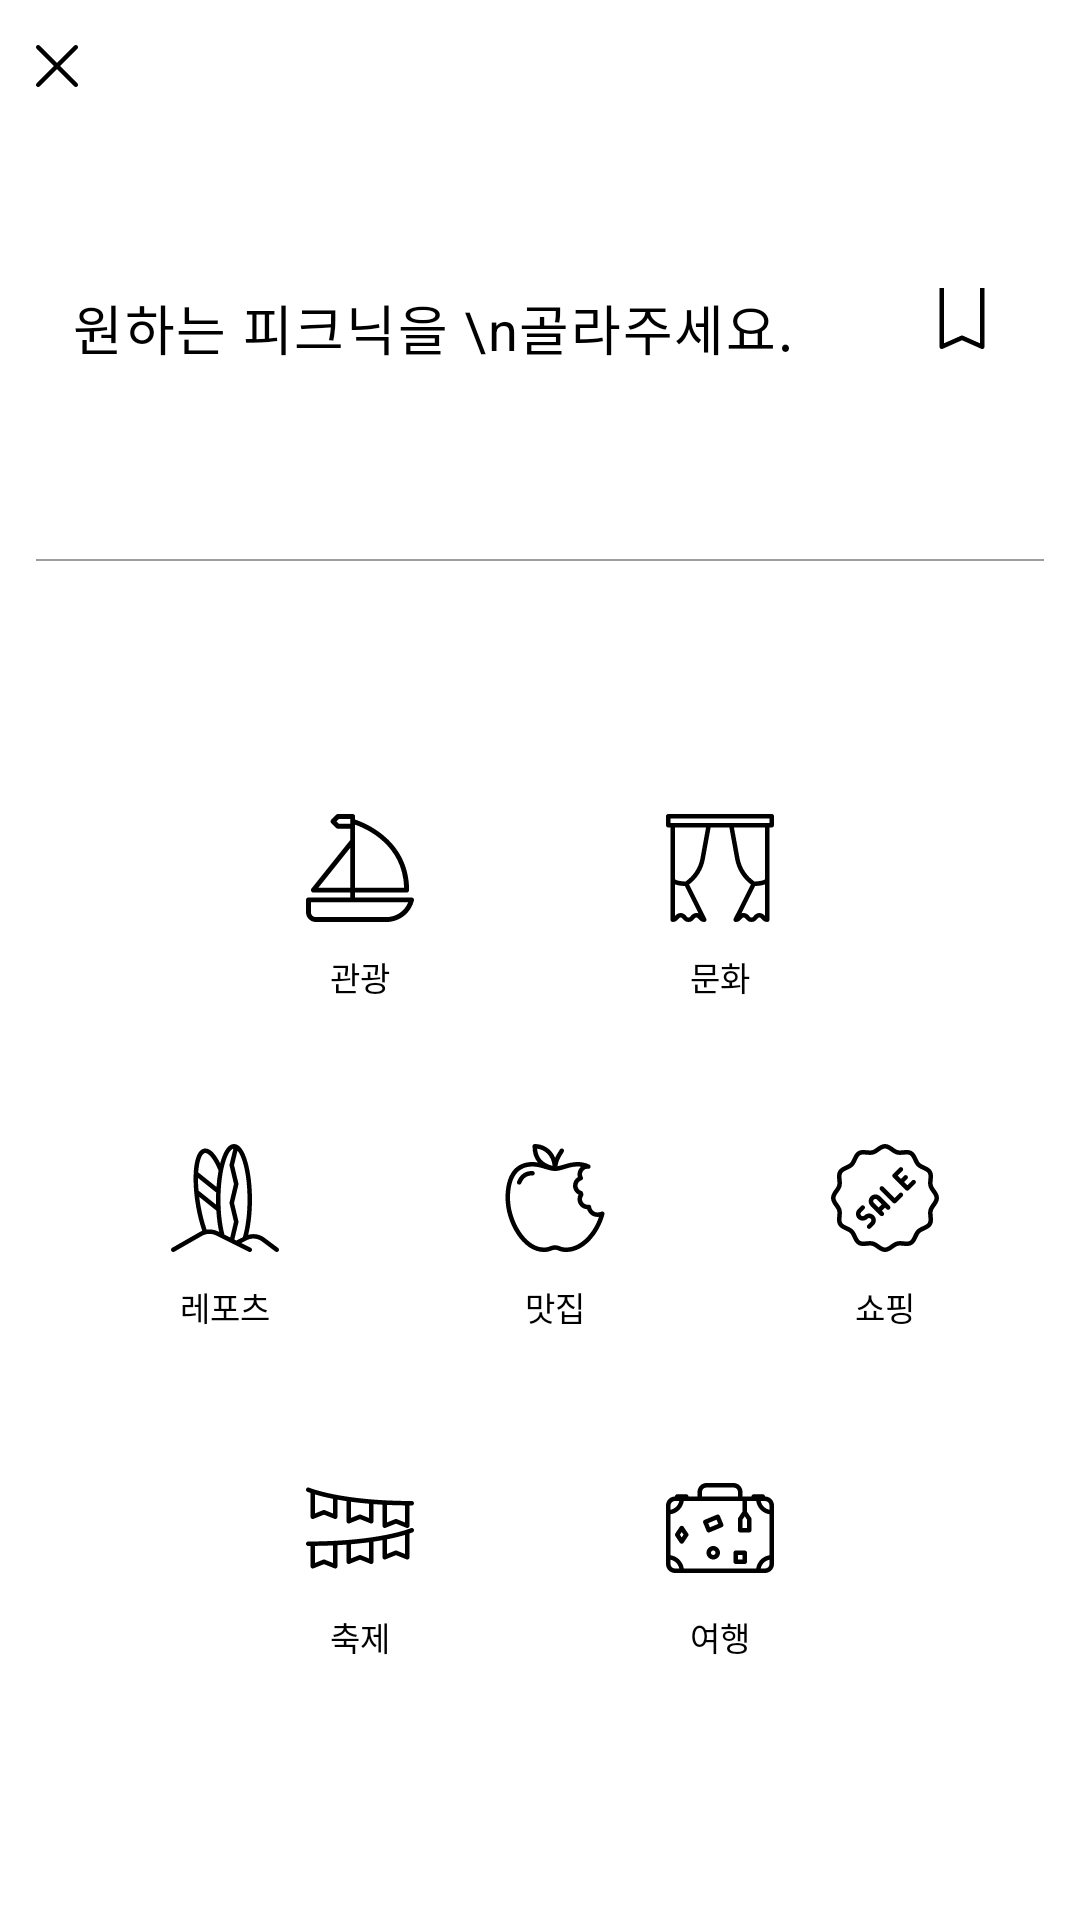

Locate icon controls on the screen. Image size 1080 × 1920, boxes as (x1, y1, x2, y2).
close: (36, 45, 78, 87)
